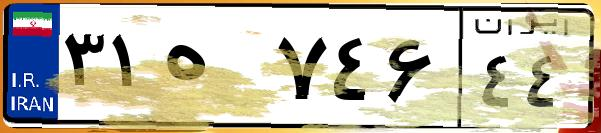1: (110, 28, 158, 98)
3: (57, 26, 110, 100)
4: (330, 28, 385, 110), (475, 38, 525, 113), (525, 38, 570, 115)
6: (385, 28, 445, 110)
7: (270, 28, 330, 110)
ه: (158, 20, 270, 120)
